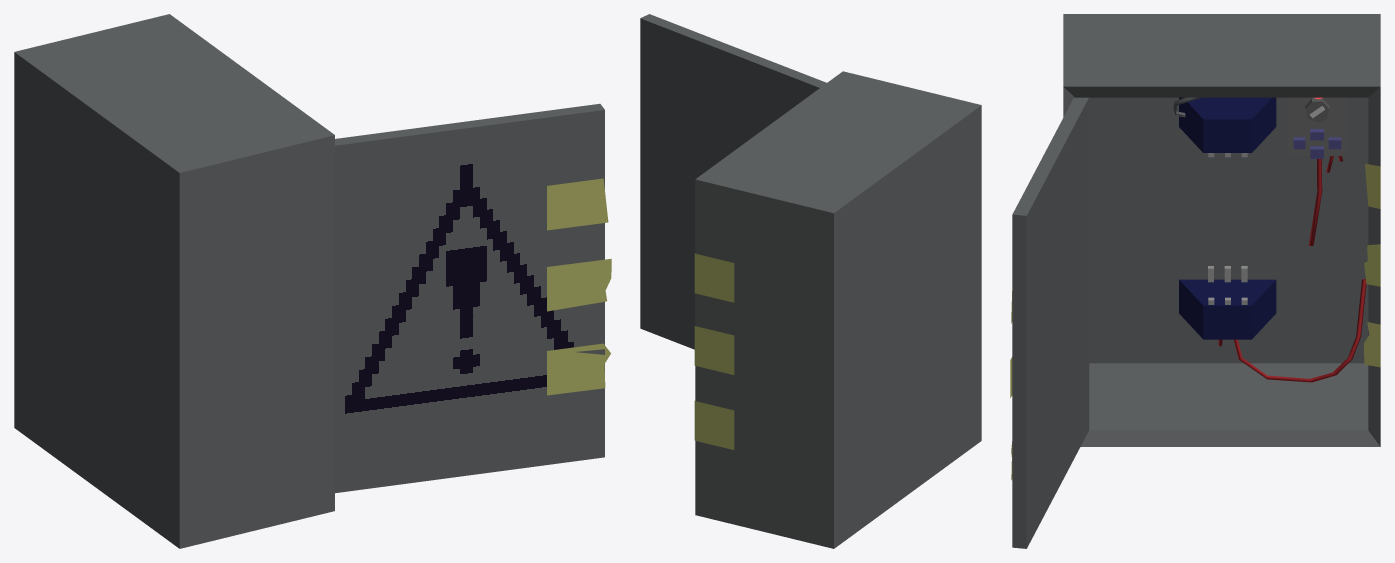
Rendered from CaixaAeSemfusível.fbx.
3 views of the same model, side by side, from view 1: azimuth 30°, elevation 25°; view 2: azimuth 150°, elevation 25°; view 3: azimuth 270°, elevation 25° (orthographic). The views are drawn at different scales.
Parts seen in each view (by area): view 1: Caixa aberta.001, Fita torada.001; view 2: Caixa aberta.001, Fita torada.001; view 3: Caixa aberta.001, BézierCurve.003, Fita torada.001, BézierCurve.004.
Part boxes in pixels (box(x1,y1,x2,y2)): Caixa aberta.001: box(14, 14, 604, 548); Fita torada.001: box(547, 178, 611, 395); Caixa aberta.001: box(640, 14, 981, 548); Fita torada.001: box(694, 253, 734, 449); Caixa aberta.001: box(1012, 14, 1380, 548); BézierCurve.003: box(1173, 97, 1346, 346); Fita torada.001: box(1010, 163, 1380, 480); BézierCurve.004: box(1233, 279, 1366, 382).
Bounding box in the file's own units: 700 × 622 × 580.
